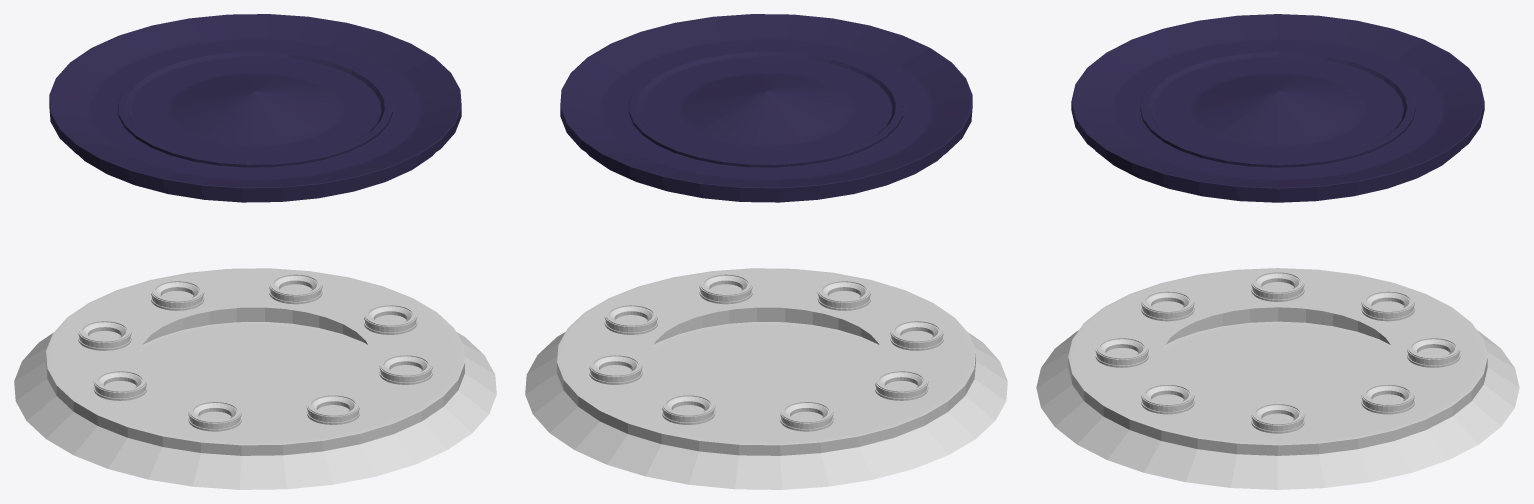
The model's file is Procedure2.fbx.
3 views of the same model, side by side, from view 1: azimuth 30°, elevation 25°; view 2: azimuth 150°, elevation 25°; view 3: azimuth 270°, elevation 25° (orthographic).
Visible parts, largest first — view 1: Cylinder.009, Cylinder.008, Cylinder.011; view 2: Cylinder.009, Cylinder.008, Cylinder.011; view 3: Cylinder.009, Cylinder.008, Cylinder.011.
Part boxes in pixels (box(x1,y1,x2,y2)): Cylinder.009: box(14, 268, 496, 489); Cylinder.008: box(49, 14, 461, 202); Cylinder.011: box(78, 273, 432, 431); Cylinder.009: box(525, 268, 1007, 489); Cylinder.008: box(560, 14, 972, 202); Cylinder.011: box(589, 273, 943, 431); Cylinder.009: box(1036, 268, 1519, 489); Cylinder.008: box(1071, 14, 1484, 202); Cylinder.011: box(1095, 271, 1460, 433).
Size of the model in its own units: 596 by 404 by 596.
